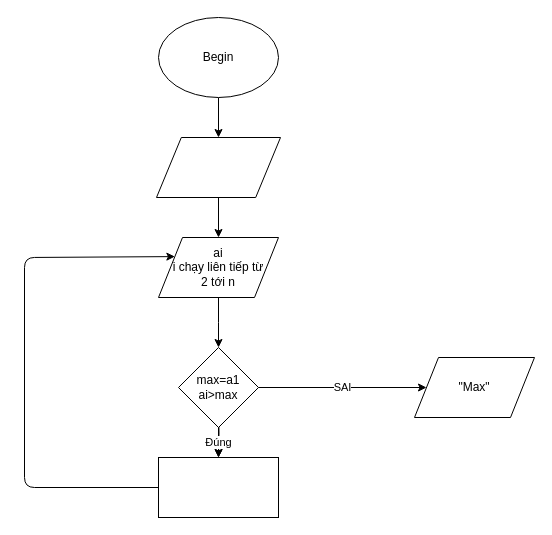
This 552x535 diagram has some shape labels left out. Here are the shapes that lost their labels. From the top down, the centre of each, then its label:
point 218,167: n"Số lượng giá trị trong dãy số"
point 218,487: max=ai
